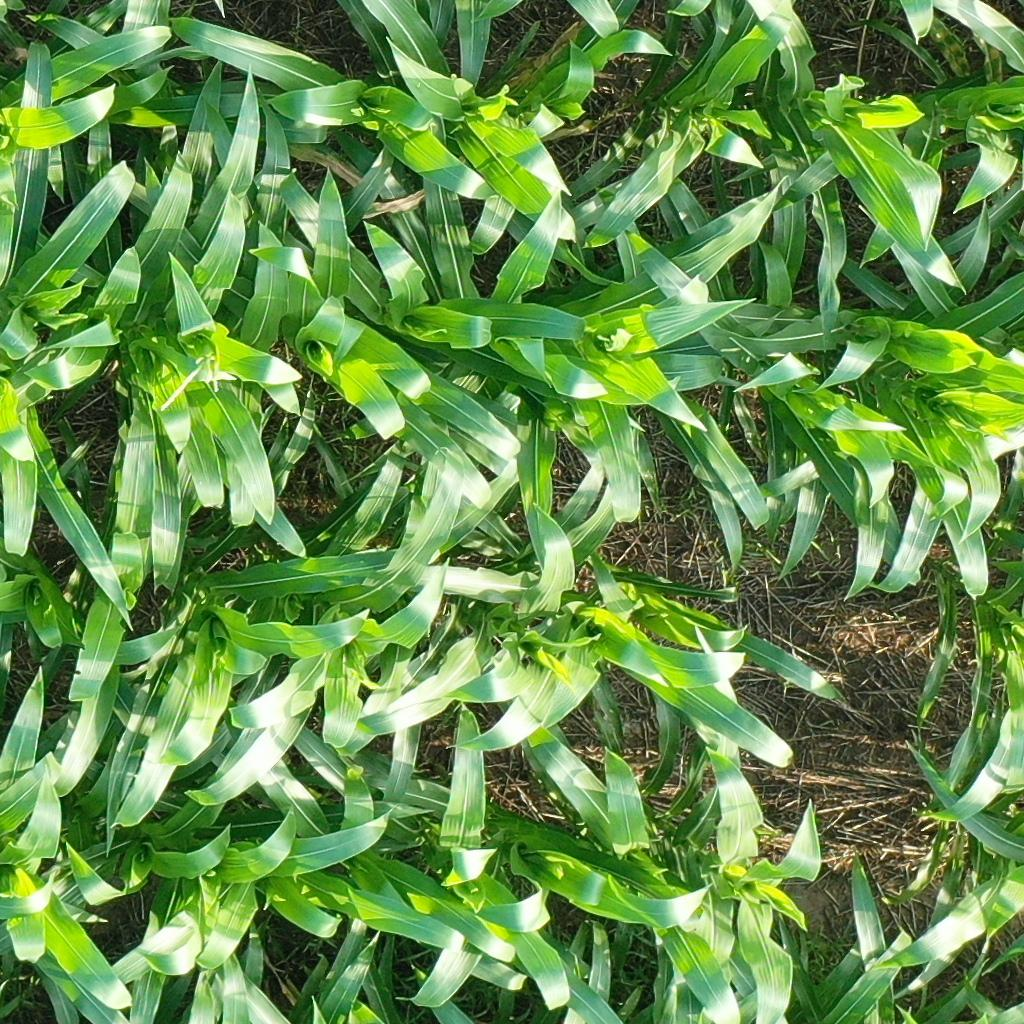Tassel: (159, 331, 233, 409)
